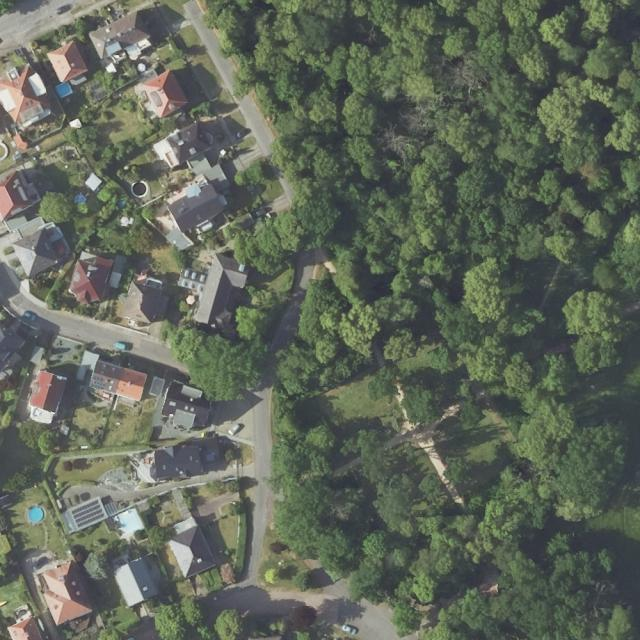PV: (70, 499, 106, 528), (90, 375, 107, 391), (25, 251, 34, 261)
